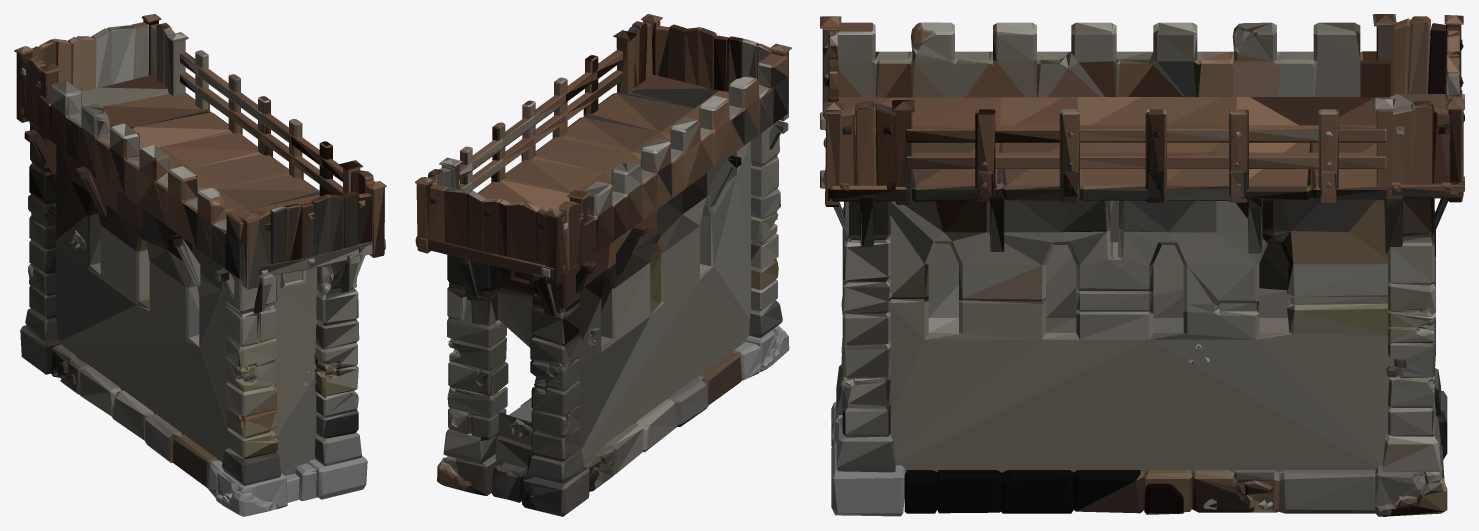
Rendered from Wall_Straight.glb.
The picture shows the model from 3 angles, left to right: view 1: azimuth 30°, elevation 25°; view 2: azimuth 150°, elevation 25°; view 3: azimuth 270°, elevation 25°; orthographic projection. The views are drawn at different scales.
Parts seen in each view (by area): view 1: world; view 2: world; view 3: world.
Part boxes in pixels (<box>): world: <box>14,14,386,516</box>; world: <box>415,14,791,516</box>; world: <box>820,14,1464,516</box>.
Bounding box in the file's own units: 0.3887 × 0.7285 × 0.998.
